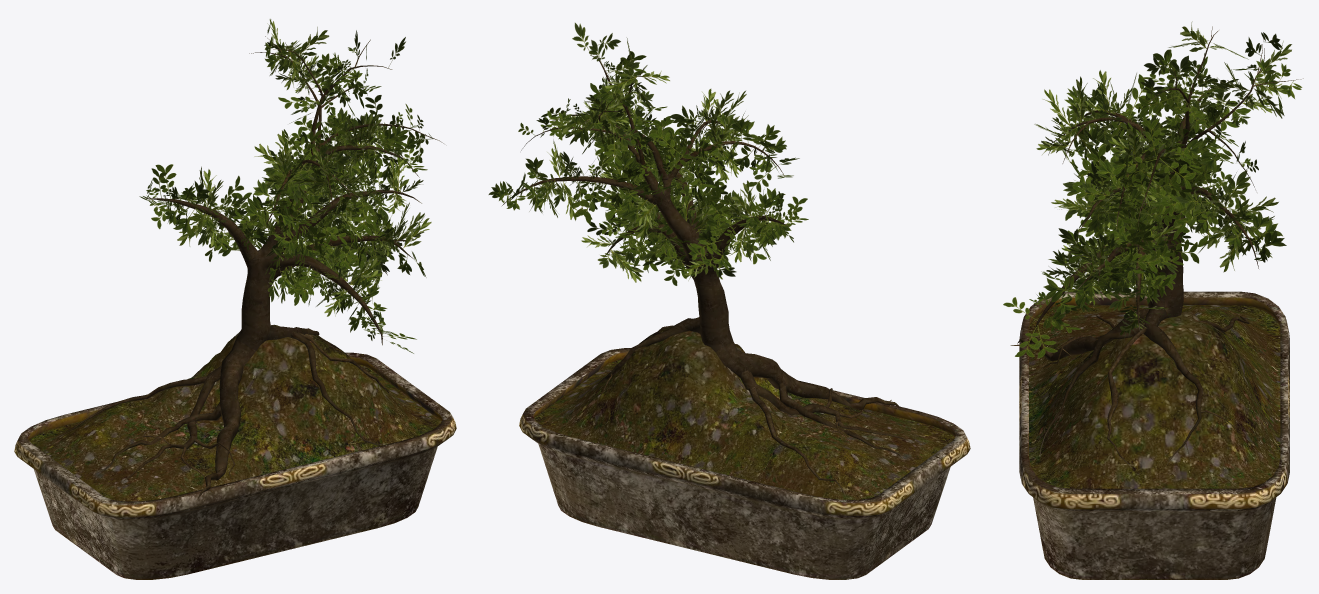
File: bonsai.glb
The picture shows the model from 3 angles, left to right: view 1: azimuth 30°, elevation 25°; view 2: azimuth 150°, elevation 25°; view 3: azimuth 270°, elevation 25°; orthographic projection. The views are drawn at different scales.
Visible parts, largest first — view 1: bonsai_plant_pot_0, bonsai_plant_ground_0, bonsai_Leaf_1_0, bonsai_Leaf_0._0, bonsai_bonsai_trunk_0; view 2: bonsai_plant_pot_0, bonsai_plant_ground_0, bonsai_Leaf_1_0, bonsai_bonsai_trunk_0, bonsai_Leaf_0._0; view 3: bonsai_plant_ground_0, bonsai_Leaf_1_0, bonsai_plant_pot_0, bonsai_Leaf_0._0, bonsai_bonsai_trunk_0.
Boxes of the visible parts, <box> form: bonsai_plant_pot_0: <box>14,352,456,579</box>; bonsai_plant_ground_0: <box>29,324,441,501</box>; bonsai_Leaf_1_0: <box>139,21,433,353</box>; bonsai_Leaf_0._0: <box>177,18,431,316</box>; bonsai_bonsai_trunk_0: <box>54,36,443,501</box>; bonsai_plant_pot_0: <box>519,348,970,579</box>; bonsai_plant_ground_0: <box>534,326,954,499</box>; bonsai_Leaf_1_0: <box>488,51,808,285</box>; bonsai_bonsai_trunk_0: <box>502,40,913,497</box>; bonsai_Leaf_0._0: <box>529,22,773,282</box>; bonsai_plant_ground_0: <box>1029,305,1280,488</box>; bonsai_Leaf_1_0: <box>1003,32,1302,358</box>; bonsai_plant_pot_0: <box>1019,291,1289,579</box>; bonsai_Leaf_0._0: <box>1034,21,1291,341</box>; bonsai_bonsai_trunk_0: <box>1010,26,1303,468</box>.
Size of the model in its own units: 35.9 by 41.03 by 21.12.
5 materials, 5 textured.
